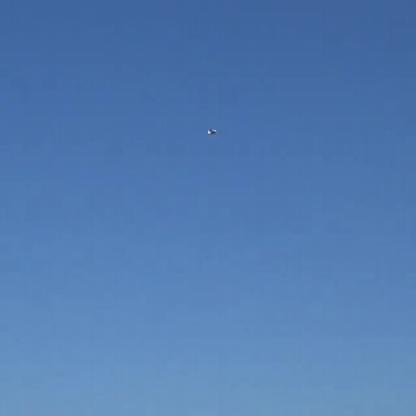plane: (203, 122, 223, 139)
